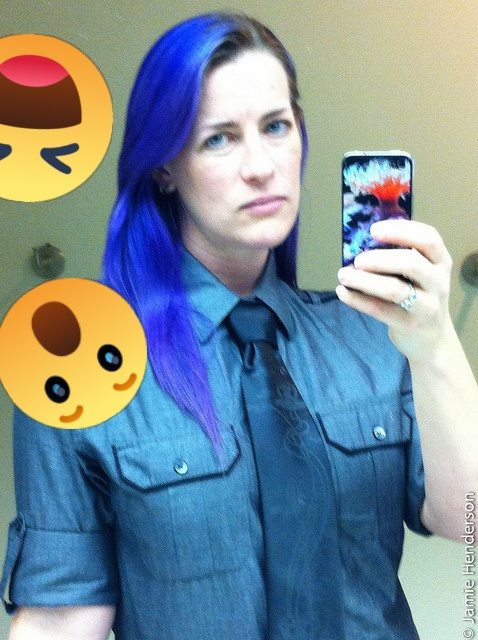haha: (0, 34, 113, 202)
wow: (0, 278, 147, 429)
